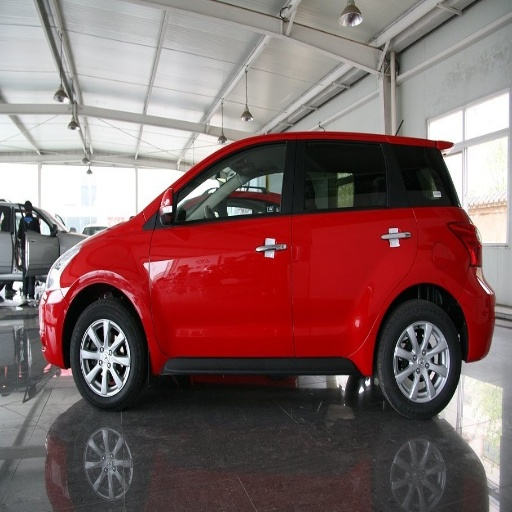back_left_door: (291, 140, 414, 359)
front_left_door: (150, 139, 294, 356)
